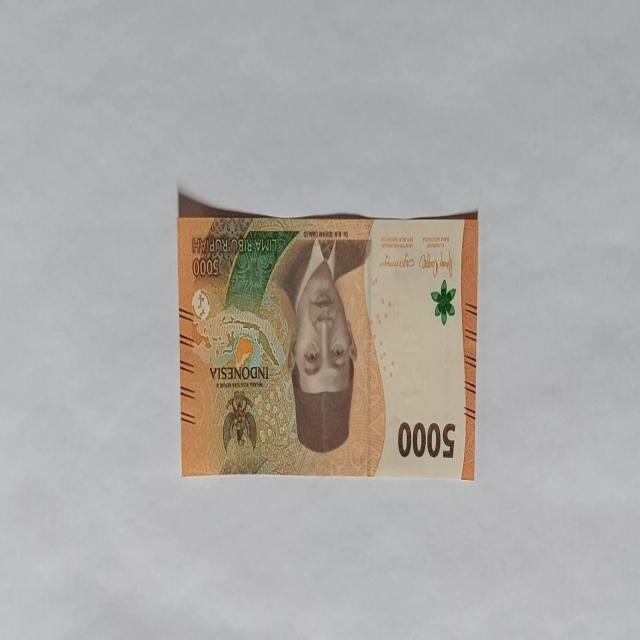lima ribu rupiah: (178, 200, 478, 480), (283, 236, 359, 454)
